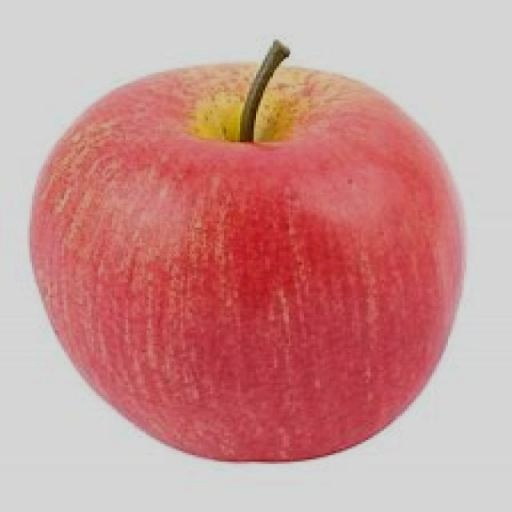fruit: (31, 65, 462, 460)
